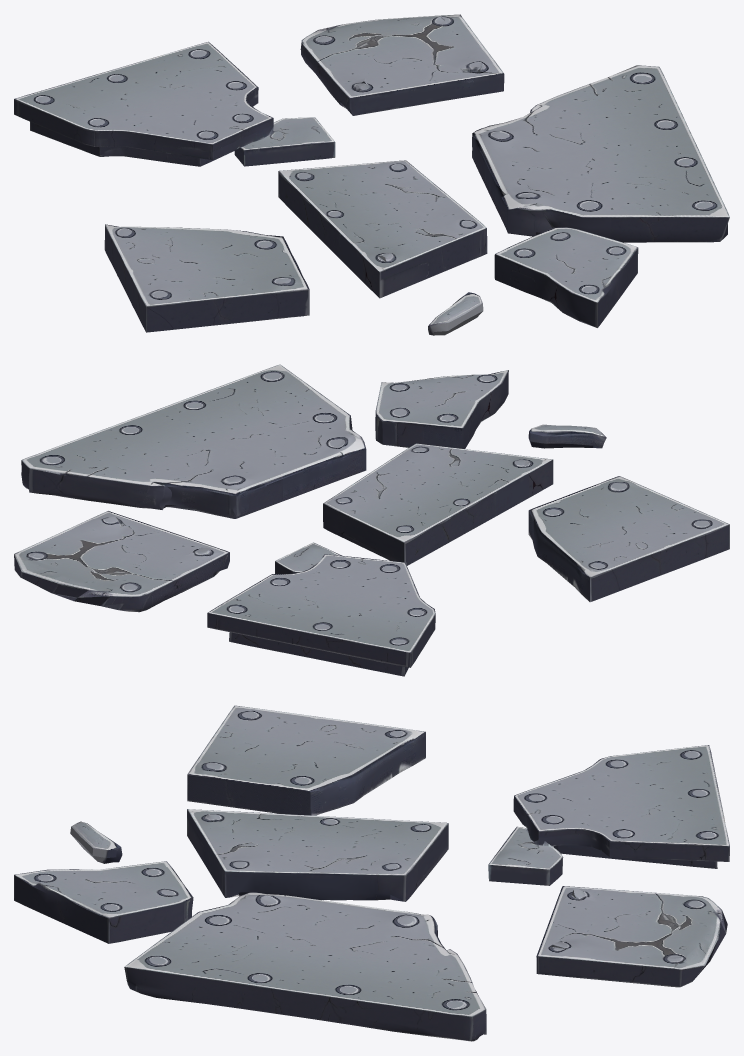
File: walkway_debris.glb
3 renders of one model, top to bottom at view 1: azimuth 30°, elevation 25°; view 2: azimuth 150°, elevation 25°; view 3: azimuth 270°, elevation 25°, orthographic. The views are drawn at different scales.
Parts seen in each view (by area): view 1: Mesh_0; view 2: Mesh_0; view 3: Mesh_0.
Boxes of the visible parts, x1,y1,x2,y2 form: Mesh_0: (14,14,729,335); Mesh_0: (14,364,729,676); Mesh_0: (14,705,729,1041).
Size of the model in its own units: 1.89 by 0.1218 by 1.84.
1 material, 1 textured.
